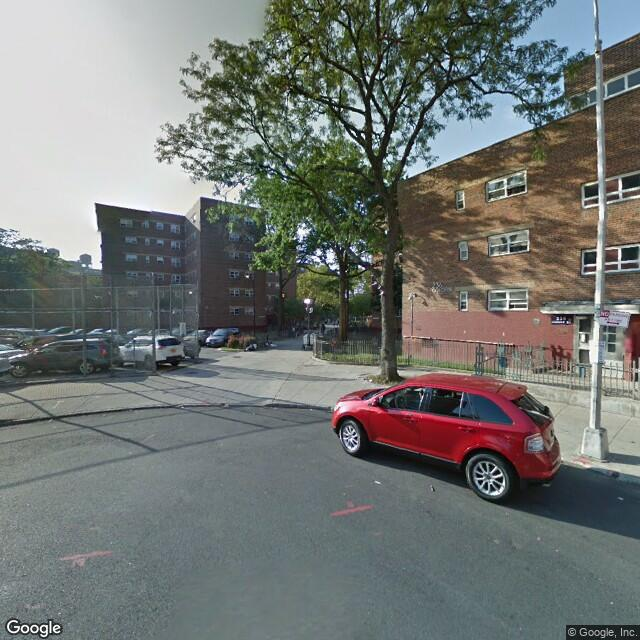litter: (429, 484, 439, 493), (372, 478, 379, 487), (617, 496, 624, 498)
